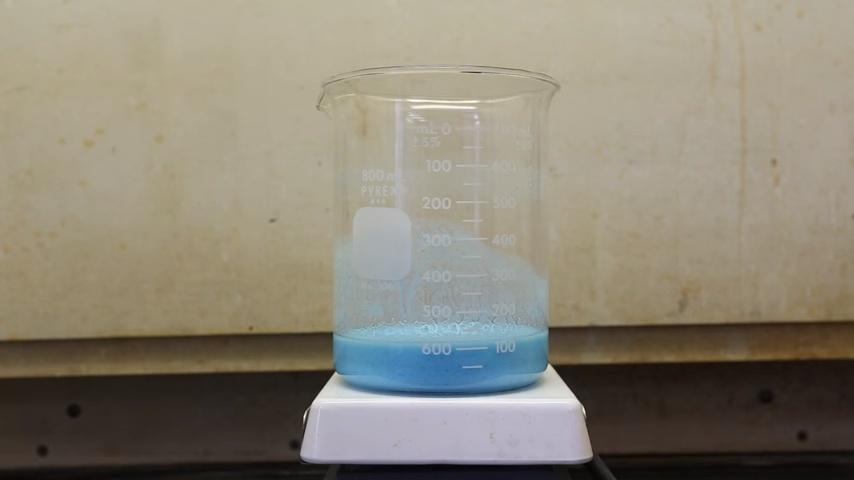Beaker: (303, 61, 571, 390)
